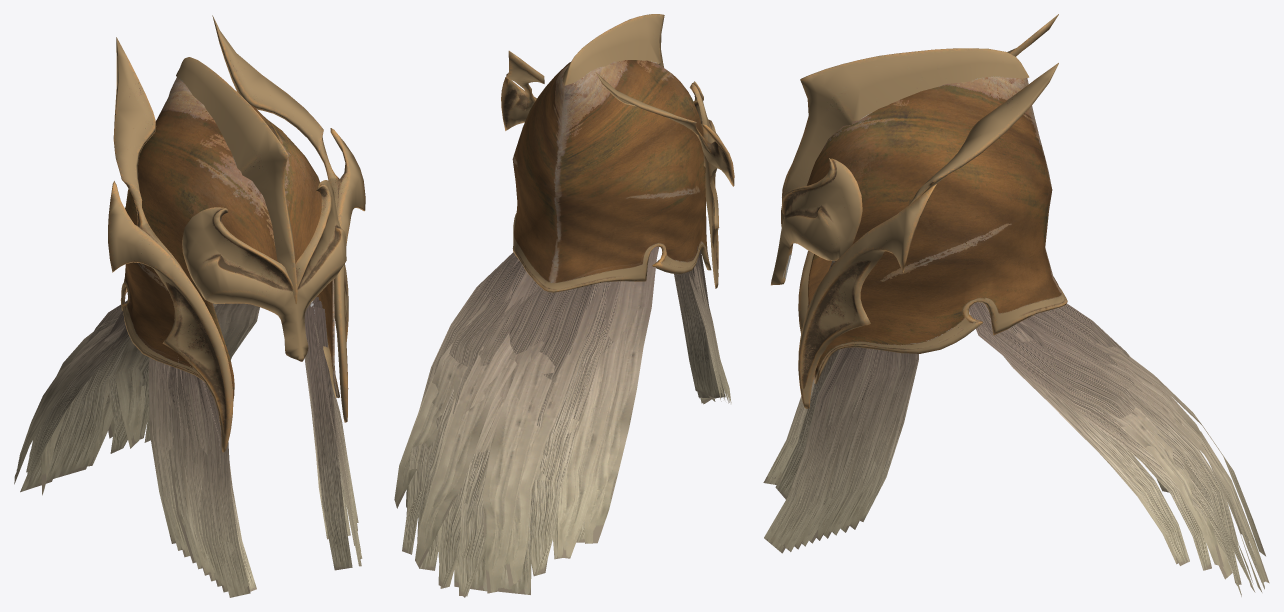
Rendered from mkwd_inf1_t3_helmet_bronze_hc.fbx.
3 renders of one model, left to right at view 1: azimuth 30°, elevation 25°; view 2: azimuth 150°, elevation 25°; view 3: azimuth 270°, elevation 25°, orthographic. The views are drawn at different scales.
Parts seen in each view (by area): view 1: mkwd_inf1_t3_helmet_bronze_hc.lod0.0, mkwd_inf1_t3_helmet_bronze_hc.lod0.1; view 2: mkwd_inf1_t3_helmet_bronze_hc.lod0.1, mkwd_inf1_t3_helmet_bronze_hc.lod0.0; view 3: mkwd_inf1_t3_helmet_bronze_hc.lod0.0, mkwd_inf1_t3_helmet_bronze_hc.lod0.1.
Part boxes in pixels (x1,y1,x2,y2): mkwd_inf1_t3_helmet_bronze_hc.lod0.0: (108, 15, 365, 452); mkwd_inf1_t3_helmet_bronze_hc.lod0.1: (14, 297, 362, 597); mkwd_inf1_t3_helmet_bronze_hc.lod0.1: (394, 246, 731, 597); mkwd_inf1_t3_helmet_bronze_hc.lod0.0: (501, 14, 734, 292); mkwd_inf1_t3_helmet_bronze_hc.lod0.0: (771, 14, 1067, 408); mkwd_inf1_t3_helmet_bronze_hc.lod0.1: (763, 302, 1269, 596).
Size of the model in its own units: 0.2873 by 0.4703 by 0.558.
